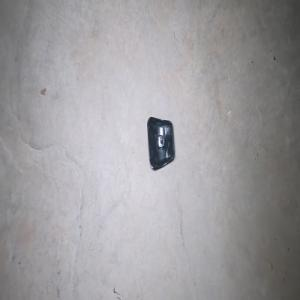LuggagePart: (146, 116, 175, 171)
